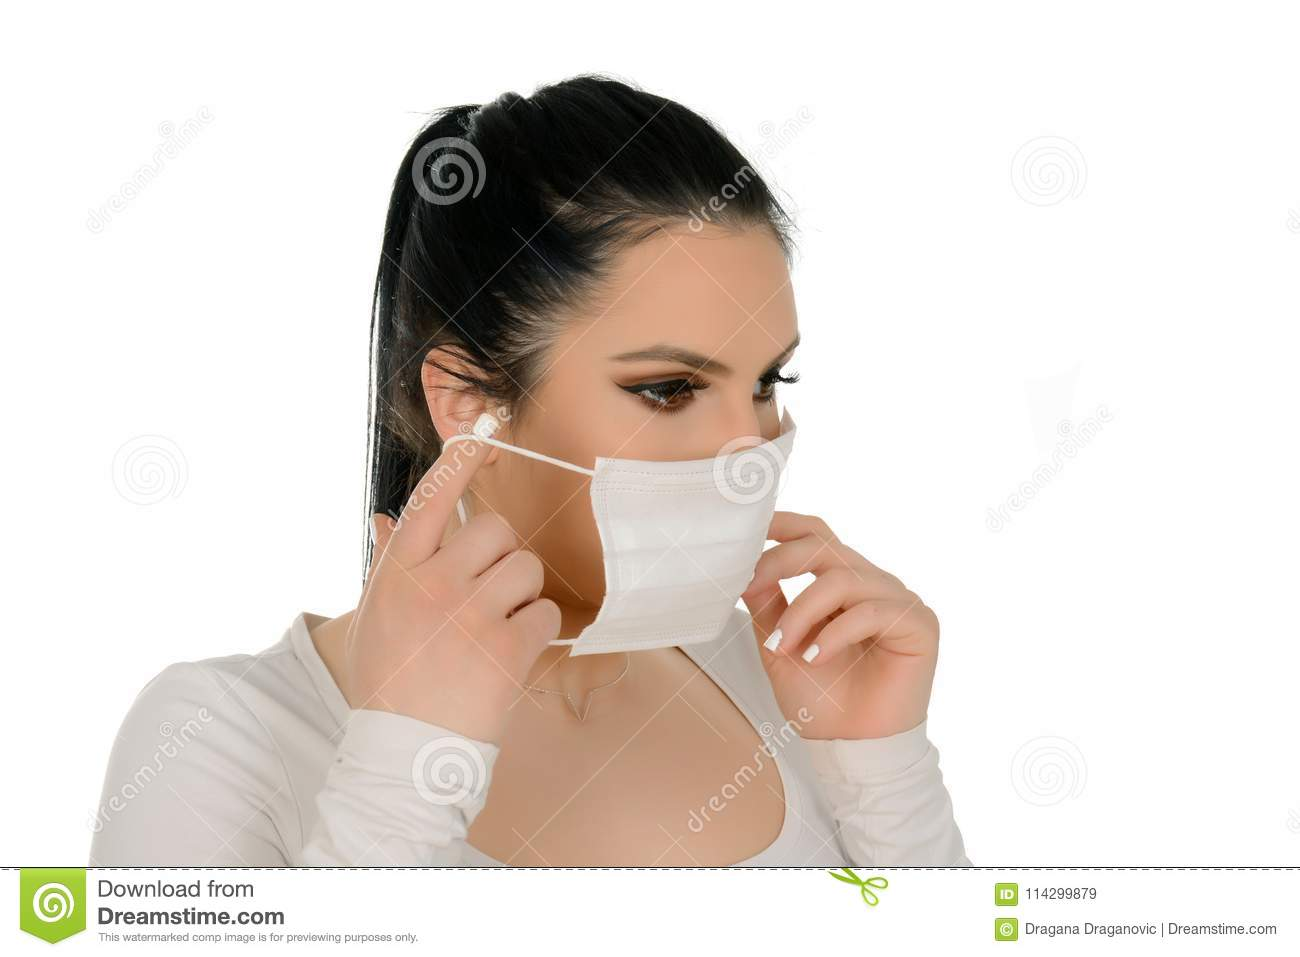mask: (553, 435, 789, 664)
